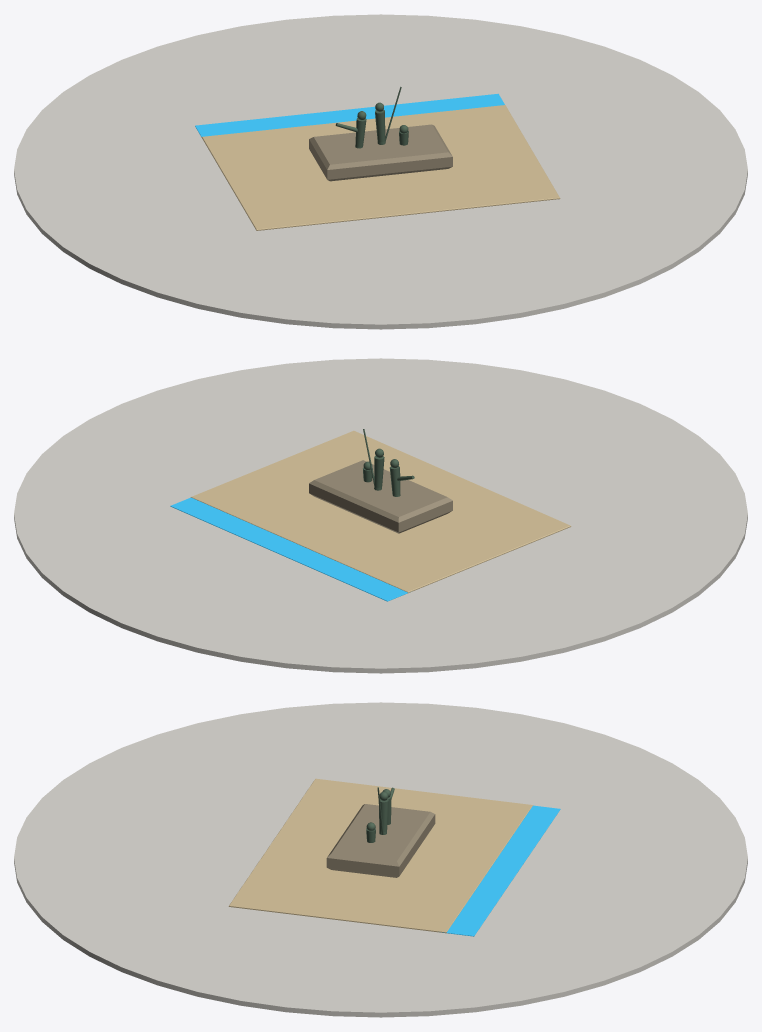
File: iracema-e-martim-mucuripe.glb
3 views of the same model, one above another, from view 1: azimuth 30°, elevation 25°; view 2: azimuth 150°, elevation 25°; view 3: azimuth 270°, elevation 25° (orthographic).
Parts seen in each view (by area): view 1: Base_Pedestal, Praca_Areia, Pedestal_Monumento, Mar_Referencia; view 2: Base_Pedestal, Praca_Areia, Pedestal_Monumento, Mar_Referencia; view 3: Base_Pedestal, Praca_Areia, Pedestal_Monumento, Mar_Referencia.
Boxes of the visible parts, x1,y1,x2,y2 form: Base_Pedestal: (14,14,747,329); Praca_Areia: (201,105,560,230); Pedestal_Monumento: (309,124,452,181); Mar_Referencia: (195,93,504,136); Base_Pedestal: (14,358,747,673); Praca_Areia: (191,430,571,593); Pedestal_Monumento: (309,460,452,533); Mar_Referencia: (170,497,409,601); Base_Pedestal: (14,702,747,1017); Praca_Areia: (228,778,532,933); Pedestal_Monumento: (326,804,435,877); Mar_Referencia: (440,805,560,936).
Size of the model in its own units: 68 by 8.59 by 68.
